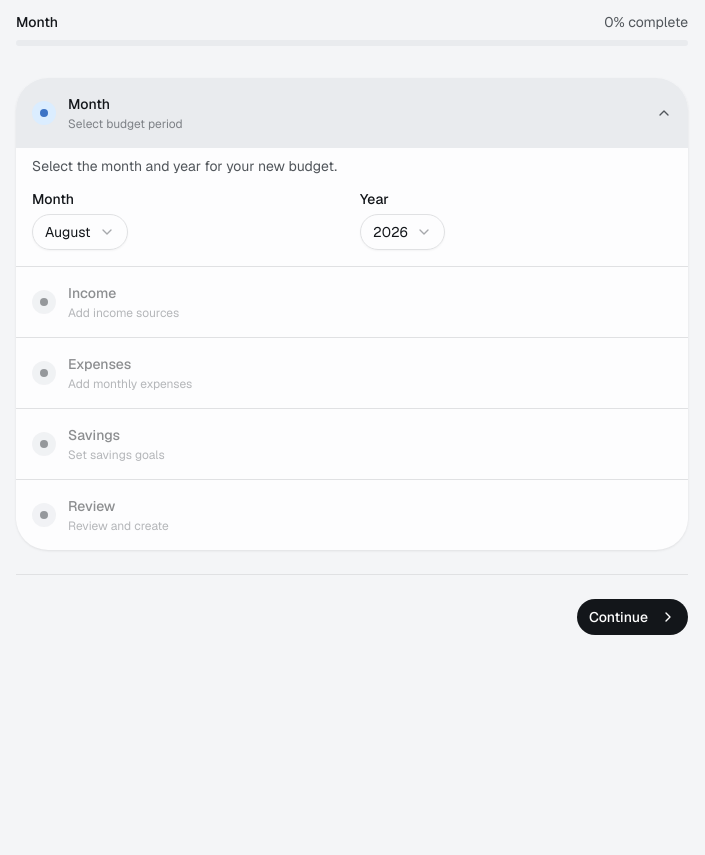
it: WizardShell › goes back to step 1 when Back clicked
Click the button "Continue": (632, 617) [577, 599, 688, 635]
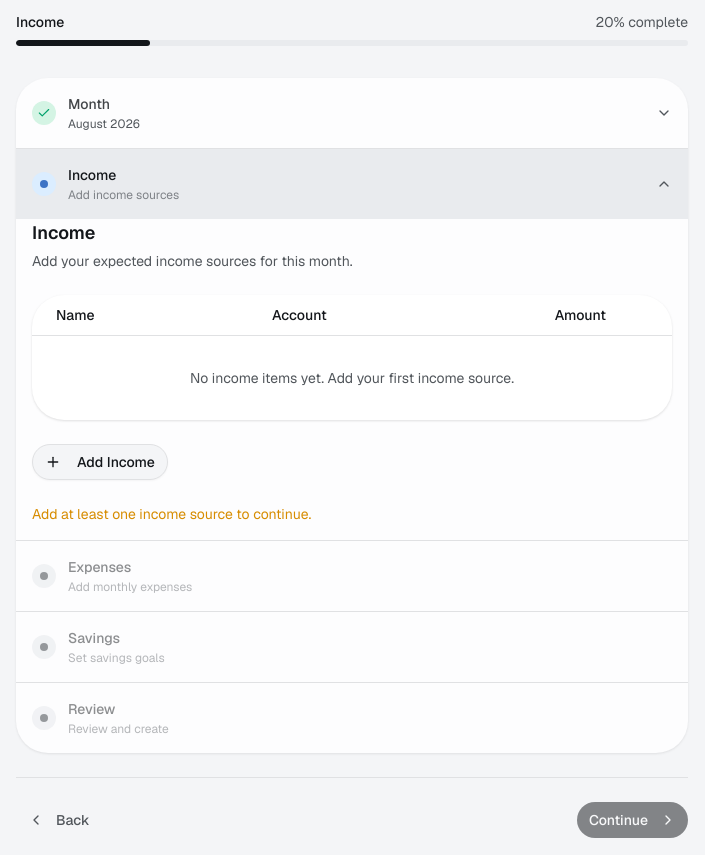
Result: the button "Back" is shown
Click the button "Back": (59, 820) [16, 802, 102, 838]
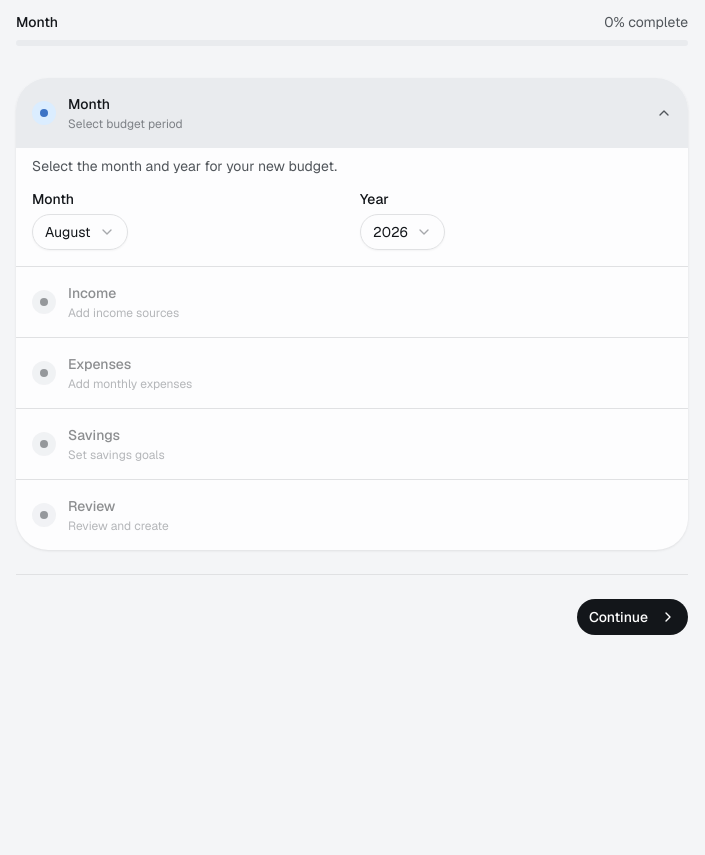
Result: the text "Select the month and year for your new budget." is shown at [32, 157, 337, 175]
